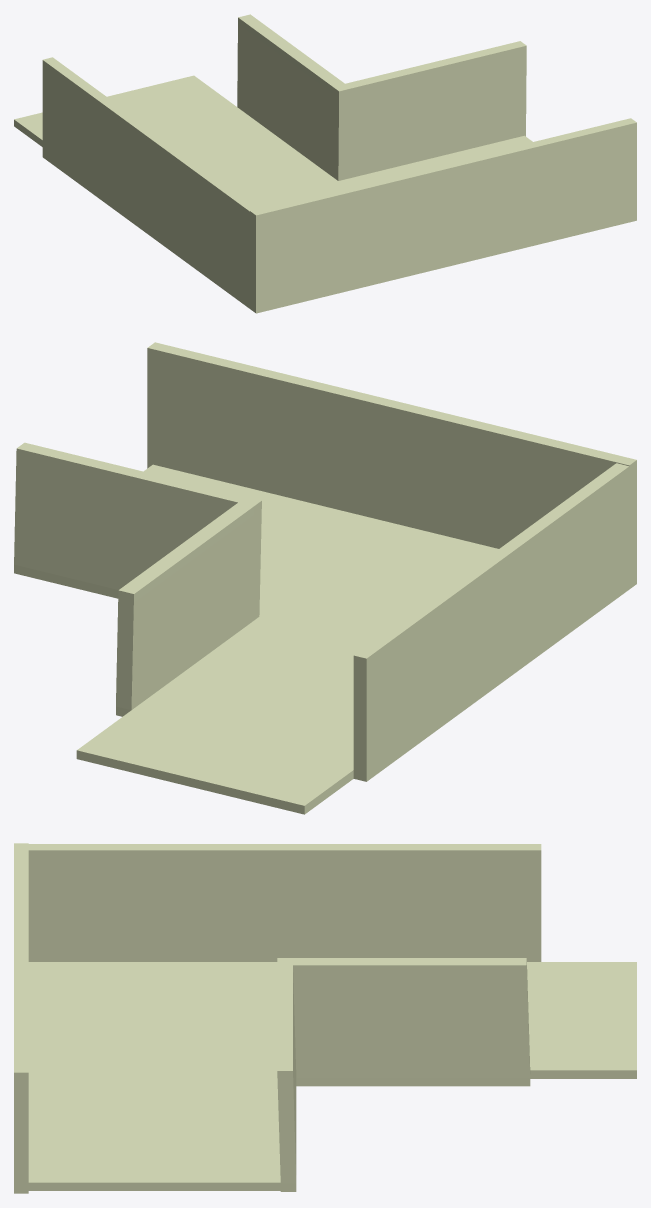
File: L_Turn_ALL.glb
The picture shows the model from 3 angles, top to bottom: view 1: azimuth 30°, elevation 25°; view 2: azimuth 150°, elevation 25°; view 3: azimuth 270°, elevation 25°; orthographic projection. The views are drawn at different scales.
Visible parts, largest first — view 1: Cube; view 2: Cube; view 3: Cube.
Part boxes in pixels (x1,y1,x2,y2): Cube: [14, 14, 636, 313]; Cube: [14, 342, 636, 814]; Cube: [14, 843, 636, 1193].
Bounding box in the file's own units: 42.74 × 10.52 × 49.06.
